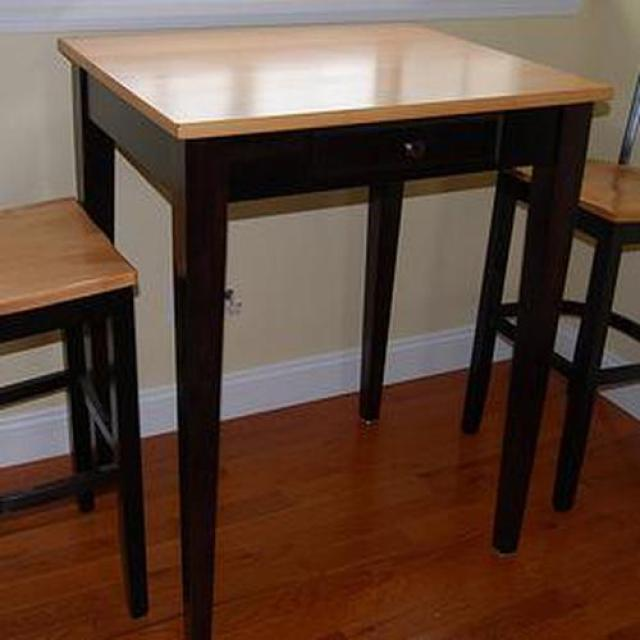table: (58, 23, 614, 640)
